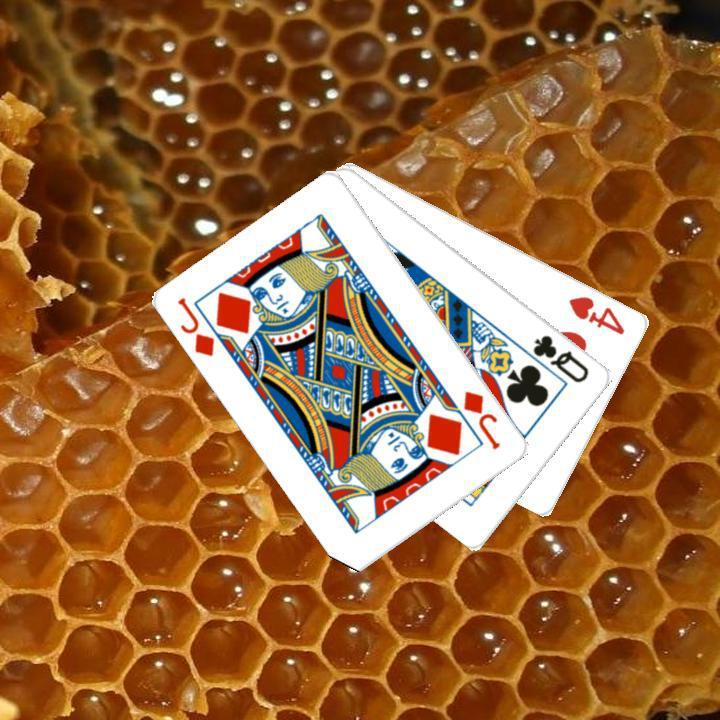4: (564, 291, 628, 337)
J: (173, 293, 218, 359), (459, 386, 503, 452)
Q: (528, 330, 592, 385)
